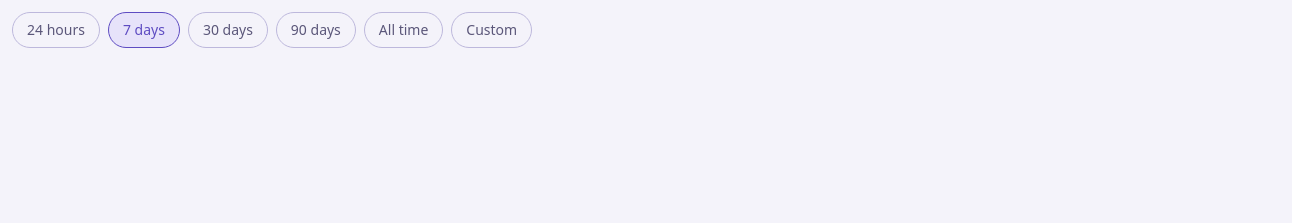
Test: DateRangeFilter › clears the error once a valid range is applied
Click the button "Custom". click: [492, 30]
box: 451,12 -> 532,48
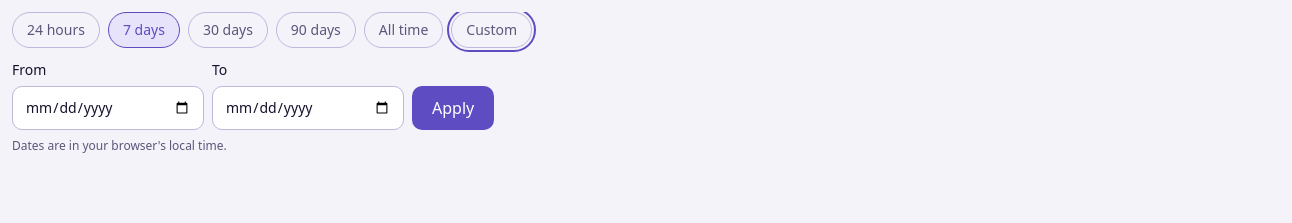
Click the button "Apply". click: [453, 108]
box: 412,86 -> 494,130
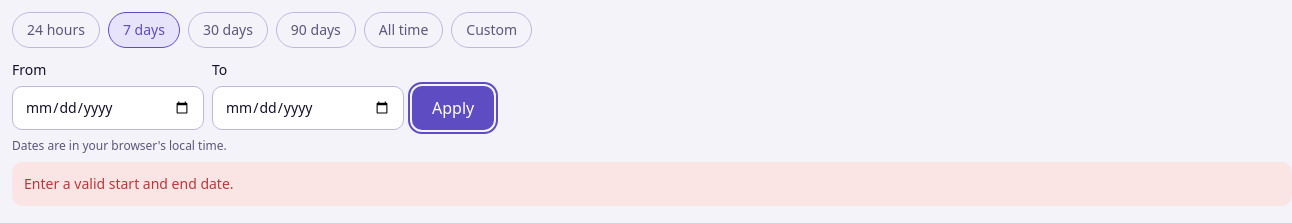
expect the message "Enter a valid start and end date." is shown: met, box 12,162 -> 1291,206
Type "2026-10-01" into the date field labelled "From". click: [108, 108]
box: 12,86 -> 204,130
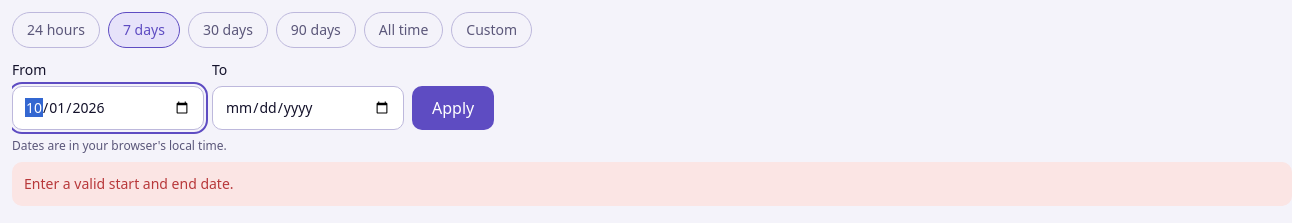
Type "2026-10-02" into the date field labelled "To". click: [308, 108]
box: 212,86 -> 404,130
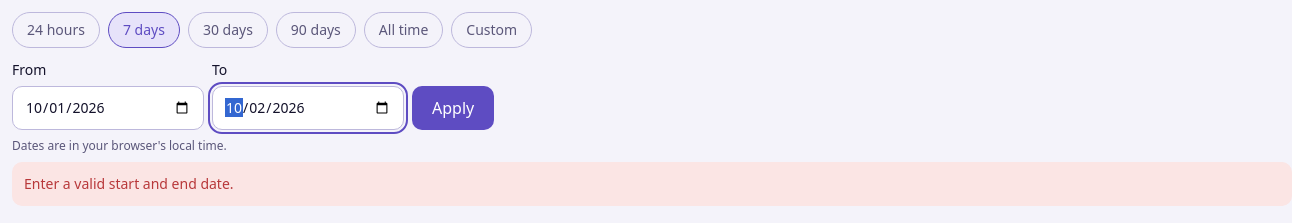
Click the button "Apply". click: [453, 108]
box: 412,86 -> 494,130
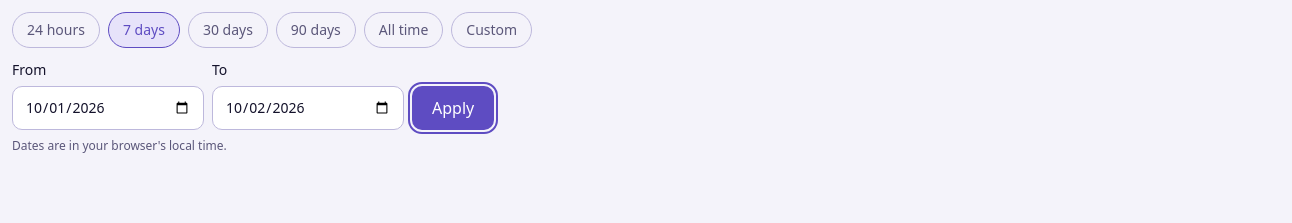
expect the message "Enter a valid start and end date." is gone: met
